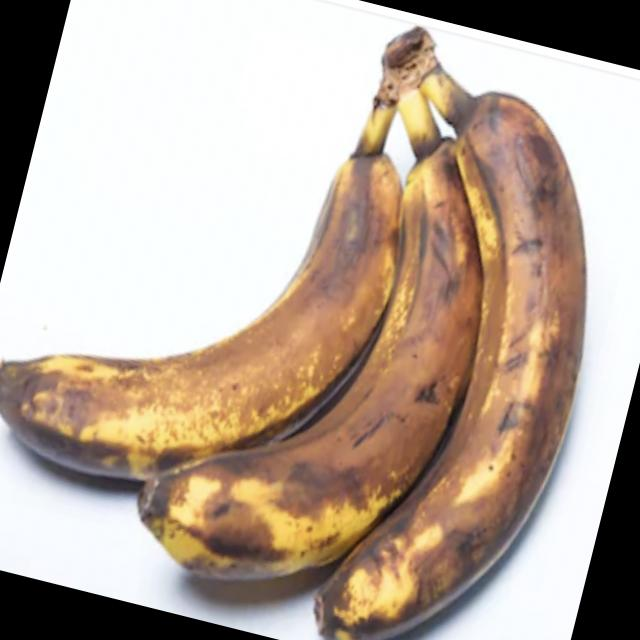rotten-banana: (126, 72, 526, 633), (0, 51, 426, 538), (314, 86, 637, 640)
